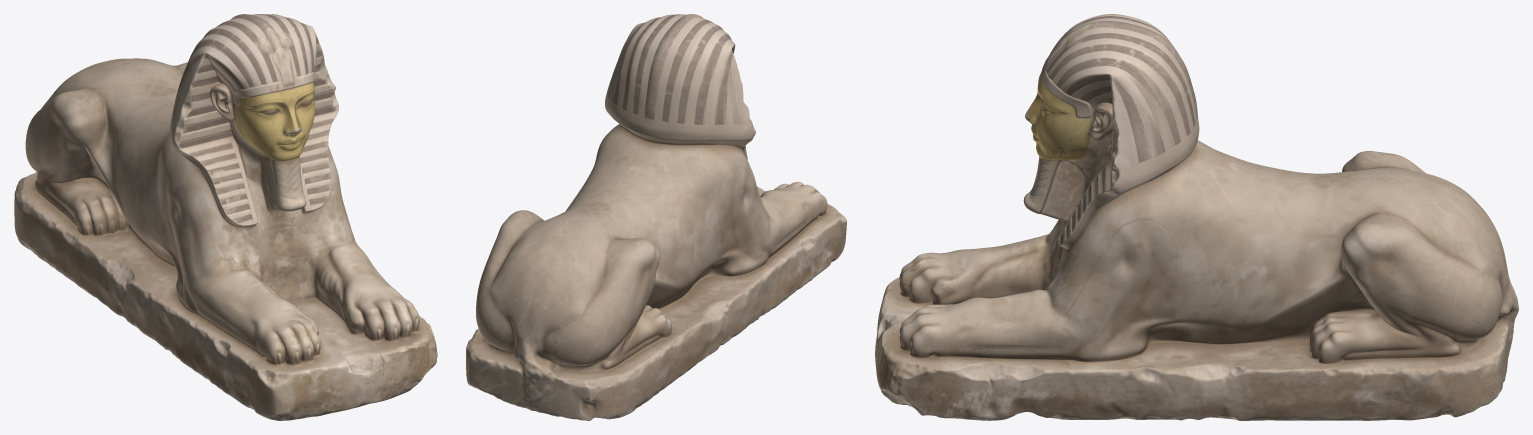
The model's file is Sphinx.glb.
3 renders of one model, left to right at view 1: azimuth 30°, elevation 25°; view 2: azimuth 150°, elevation 25°; view 3: azimuth 270°, elevation 25°, orthographic. The views are drawn at different scales.
Size of the model in its own units: 0.7177 by 1.15 by 1.9.
Materials: 1 (1 with a texture image).
